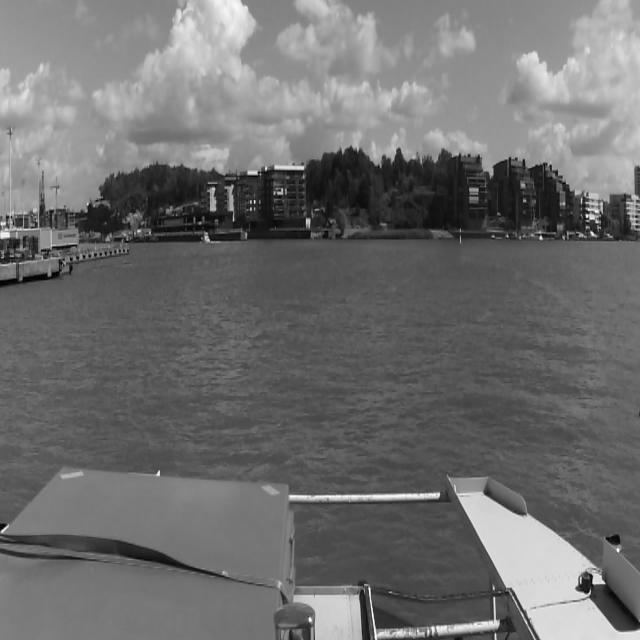buoy: (457, 226, 462, 246)
ship: (520, 197, 544, 241), (506, 228, 523, 241), (603, 230, 613, 243), (588, 229, 598, 242), (202, 231, 210, 243), (538, 235, 544, 241), (490, 234, 496, 240), (505, 233, 509, 239)
